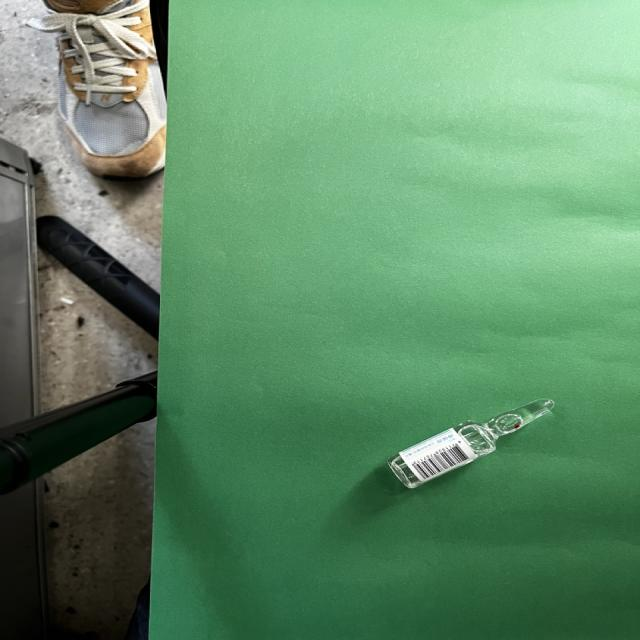Ampoules: (386, 398, 555, 489)
